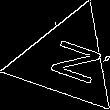N_W: (34, 33, 99, 88)
